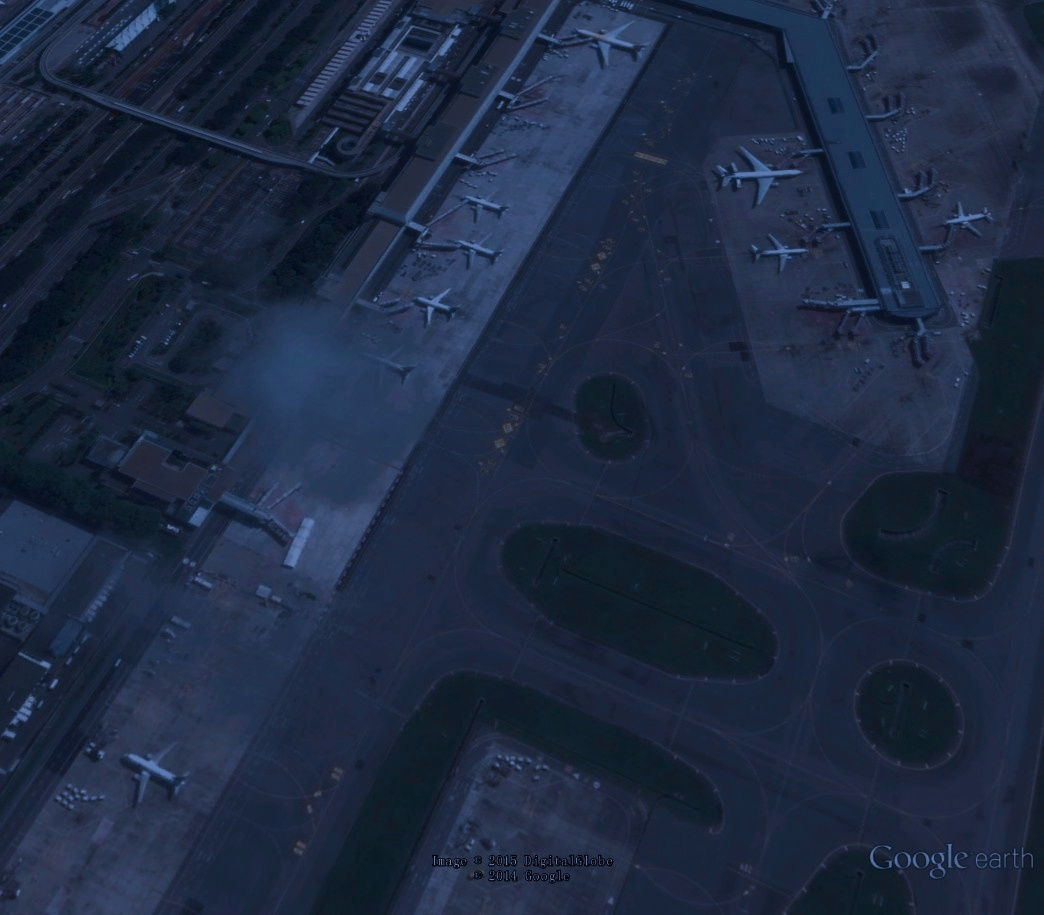aircraft: (715, 141, 804, 213), (117, 738, 196, 811), (568, 16, 654, 75), (355, 342, 424, 397), (745, 228, 813, 280), (936, 196, 1000, 243), (445, 228, 510, 274), (408, 283, 463, 333), (457, 186, 514, 229)
